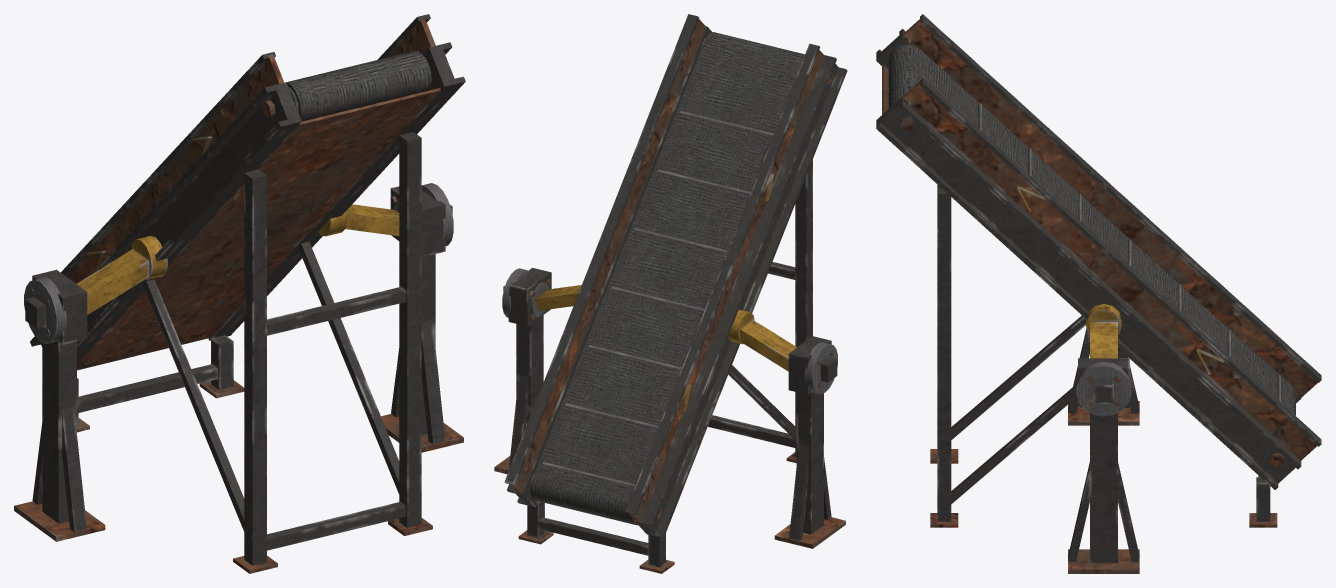
File: feConveyorRamp_HD.fbx
3 renders of one model, left to right at view 1: azimuth 30°, elevation 25°; view 2: azimuth 150°, elevation 25°; view 3: azimuth 270°, elevation 25°, orthographic. The views are drawn at different scales.
Parts seen in each view (by area): view 1: feConveyorRamp_Base, FeBeltDrive_R.001, FeBeltDrive_L.001, FeSpin_BeltDrive_R.001, FeSpin_BeltDrive_L.001; view 2: feConveyorRamp_Base, FeBeltDrive_R.001, FeBeltDrive_L.001, FeBeltSlats.001, FeSpin_BeltDrive_R.001; view 3: feConveyorRamp_Base, FeBeltDrive_L.001, FeSpin_BeltDrive_L.001, FeBeltDrive_R.001, FeBeltSlats.001.
Boxes of the visible parts, x1,y1,x2,y2 form: feConveyorRamp_Base: (30, 14, 465, 573); FeBeltDrive_R.001: (14, 236, 167, 541); FeBeltDrive_L.001: (318, 186, 463, 452); FeSpin_BeltDrive_R.001: (24, 277, 66, 343); FeSpin_BeltDrive_L.001: (421, 183, 453, 246); feConveyorRamp_Base: (504, 14, 847, 573); FeBeltDrive_R.001: (728, 309, 845, 548); FeBeltDrive_L.001: (494, 267, 581, 474); FeBeltSlats.001: (540, 111, 773, 490); FeSpin_BeltDrive_R.001: (804, 342, 837, 394); feConveyorRamp_Base: (876, 14, 1321, 527); FeBeltDrive_L.001: (1068, 304, 1139, 573); FeSpin_BeltDrive_L.001: (1076, 361, 1131, 416); FeBeltDrive_R.001: (1068, 328, 1139, 425); FeBeltSlats.001: (978, 103, 1282, 403).
Bounding box in the file's own units: 1.02 × 1.22 × 1.12.
Materials: 1 (1 with a texture image).
